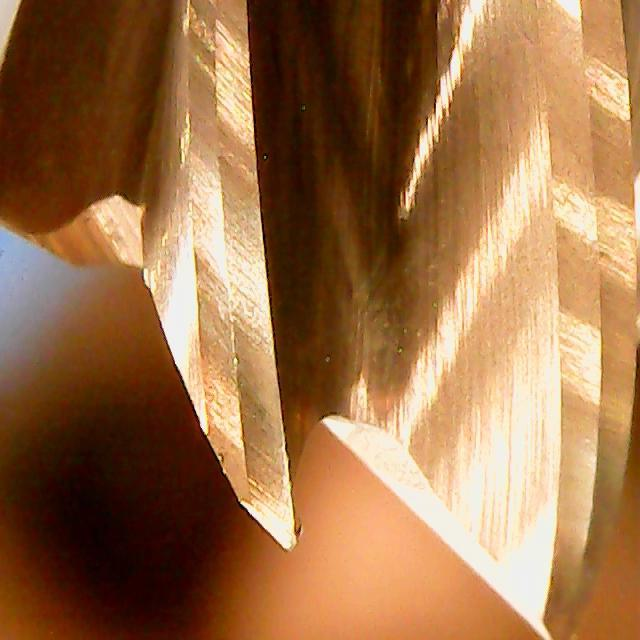Tool-wear-class-0: (151, 201, 326, 560)
